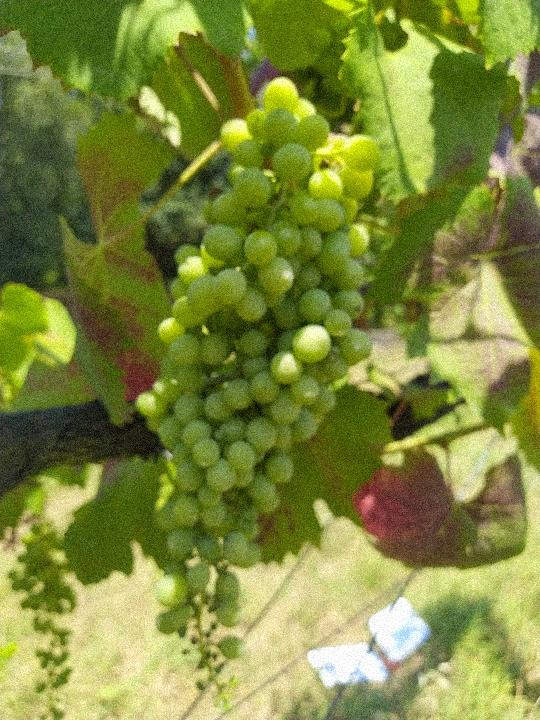grape: (135, 71, 387, 716)
